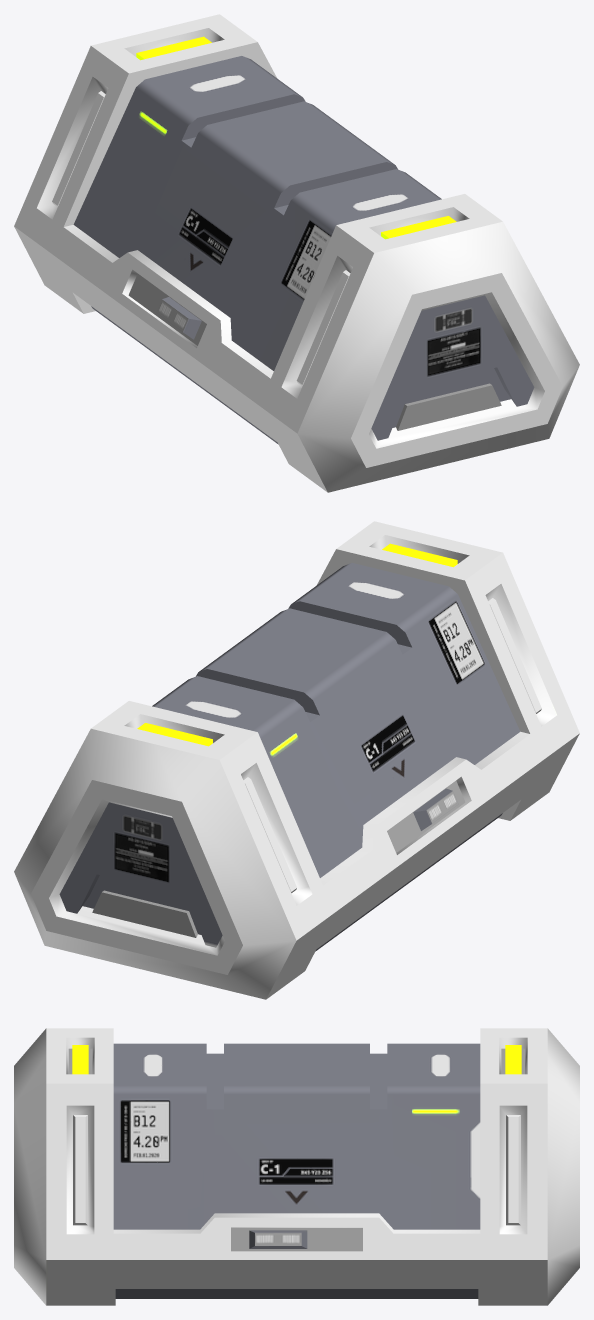
Rendered from sci-fi_crate__ammunition_box_2.glb.
The picture shows the model from 3 angles, top to bottom: view 1: azimuth 30°, elevation 25°; view 2: azimuth 150°, elevation 25°; view 3: azimuth 270°, elevation 25°; orthographic projection. The views are drawn at different scales.
Parts seen in each view (by area): view 1: Cube_low, Slice_low, Cube1_low, Cube.002_low, Cube.003_low, Cube.001_low; view 2: Cube_low, Slice_low, Cube1_low, Cube.002_low, Cube.003_low, Cube.001_low; view 3: Cube_low, Slice_low, Slice.001_low, Cube.002_low, Cube.001_low, Cube.003_low.
Boxes of the visible parts, box(x1,y1,x2,y2) form: Cube_low: box(14, 14, 579, 492); Slice_low: box(73, 56, 441, 370); Cube1_low: box(396, 383, 501, 430); Cube.002_low: box(52, 91, 350, 385); Cube.003_low: box(136, 36, 456, 239); Cube.001_low: box(156, 297, 201, 339); Cube_low: box(14, 521, 579, 999); Slice_low: box(152, 563, 520, 877); Cube1_low: box(92, 890, 197, 937); Cube.002_low: box(243, 598, 541, 892); Cube.003_low: box(137, 543, 457, 746); Cube.001_low: box(413, 788, 458, 830); Cube_low: box(14, 1028, 579, 1305); Slice_low: box(113, 1043, 480, 1229); Slice.001_low: box(115, 1289, 478, 1298); Cube.002_low: box(73, 1115, 520, 1225); Cube.001_low: box(249, 1230, 307, 1248); Cube.003_low: box(72, 1045, 521, 1074).
Bounding box in the file's own units: 200 × 154 × 392.
1 material, 1 textured.
